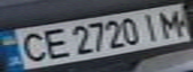0: (118, 15, 145, 46)
2: (69, 21, 93, 56), (103, 16, 127, 50)
7: (87, 19, 109, 53)
C: (12, 29, 51, 64)
E: (36, 25, 72, 61)
I: (136, 11, 163, 42)
M: (154, 7, 190, 38)
